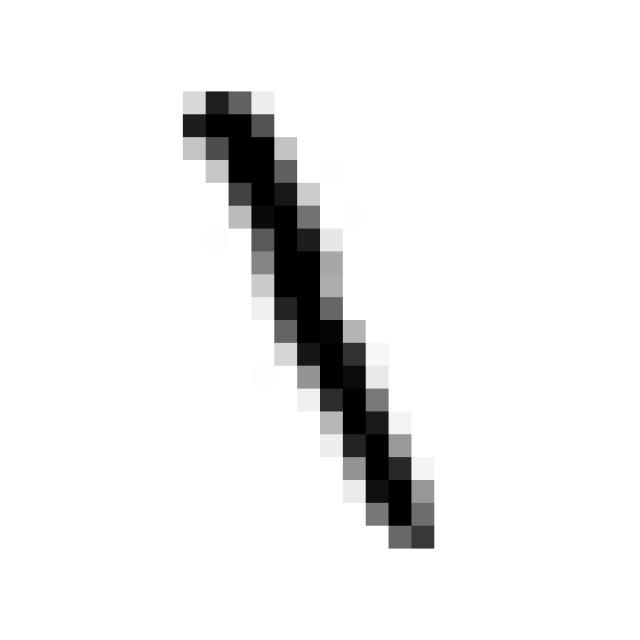1 -one-: (153, 66, 450, 561)
